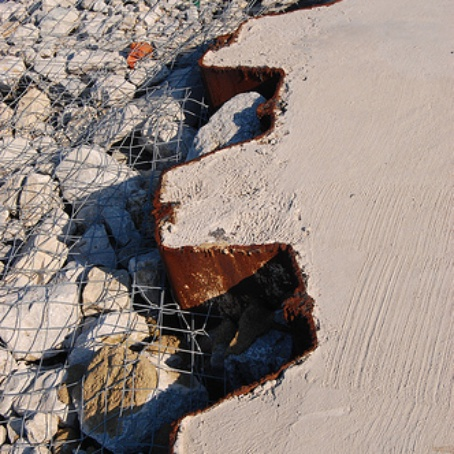rocks: (1, 4, 234, 454)
